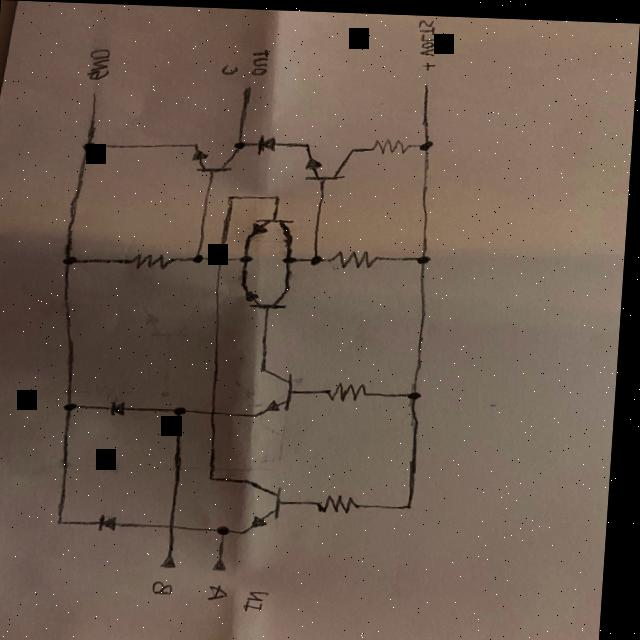diode: (100, 511, 129, 538), (256, 130, 283, 155), (109, 397, 136, 418)
junction: (407, 381, 433, 405), (413, 244, 440, 267), (75, 136, 106, 156), (417, 132, 444, 154), (171, 399, 198, 421), (188, 247, 212, 268), (168, 514, 190, 536), (265, 185, 288, 206), (60, 253, 86, 271), (63, 398, 86, 417), (238, 248, 262, 266), (216, 248, 235, 270), (208, 401, 231, 419), (405, 495, 426, 514), (232, 134, 251, 155), (219, 519, 242, 536), (309, 249, 330, 266), (212, 468, 230, 487), (58, 515, 79, 530), (284, 250, 302, 267), (226, 188, 245, 204)
resistor: (332, 242, 386, 272), (125, 249, 181, 274), (319, 491, 370, 517), (327, 376, 378, 402), (369, 131, 415, 154)
terminal: (215, 547, 242, 573), (236, 79, 261, 104), (166, 545, 188, 571), (87, 86, 106, 110), (419, 73, 436, 96)
text: (83, 46, 115, 83), (413, 15, 442, 55), (245, 588, 281, 613), (247, 45, 275, 76), (156, 576, 186, 597), (211, 582, 238, 603), (218, 60, 243, 76), (419, 58, 438, 70)
transistor: (245, 472, 291, 542), (257, 365, 304, 420), (304, 139, 356, 186), (243, 277, 298, 312), (247, 213, 302, 245), (191, 146, 240, 176)
